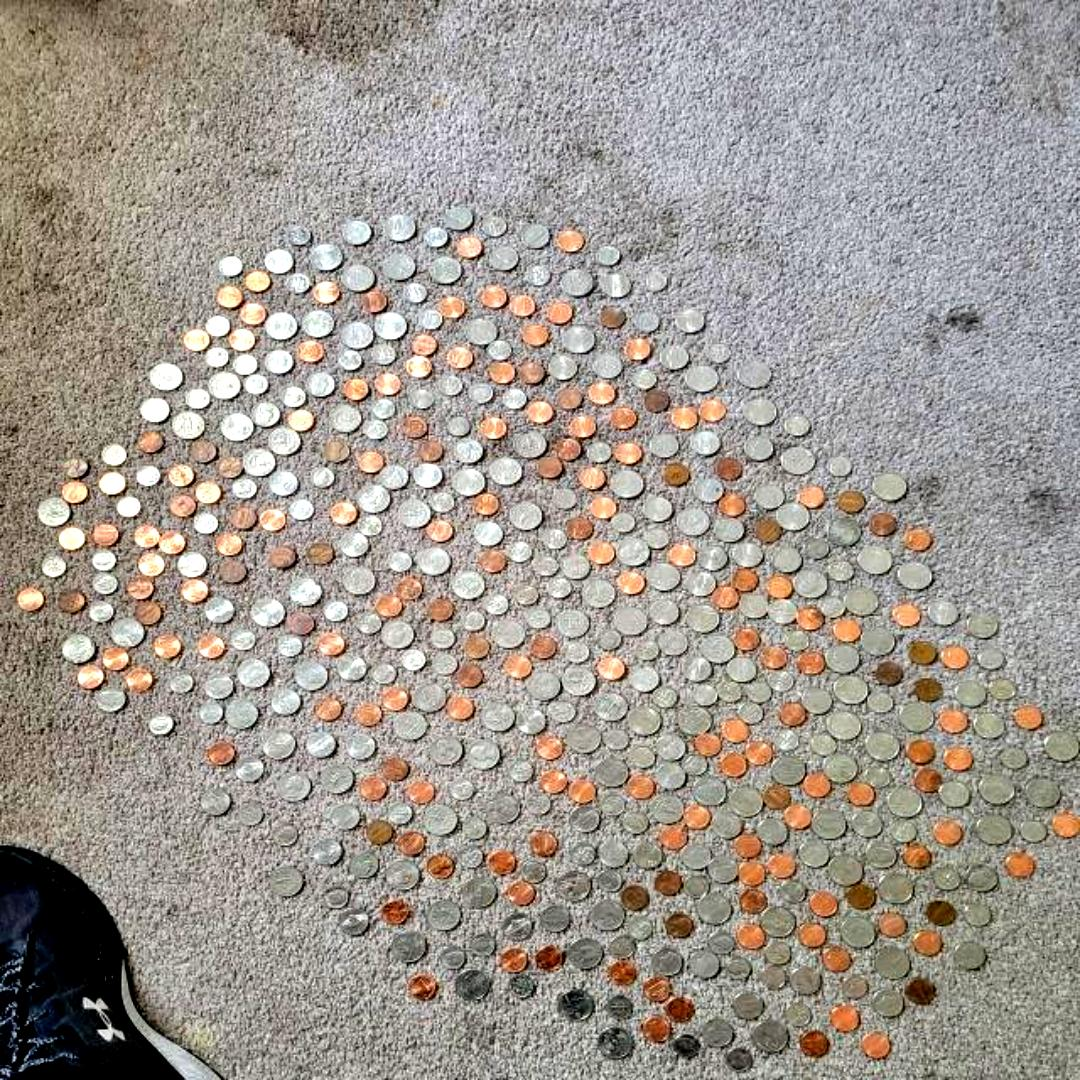Dime: (725, 1048, 752, 1072), (626, 916, 653, 940), (609, 936, 636, 960), (708, 930, 734, 954), (508, 974, 534, 998), (440, 946, 466, 970), (785, 1003, 812, 1026), (604, 996, 631, 1019), (456, 846, 484, 868), (672, 1034, 700, 1056), (725, 956, 750, 980), (596, 870, 622, 893), (1020, 820, 1046, 843), (842, 975, 868, 998), (764, 942, 791, 964), (470, 934, 497, 956), (989, 678, 1016, 700), (422, 226, 448, 248), (402, 282, 428, 304), (468, 382, 494, 404), (486, 340, 512, 362), (362, 418, 388, 440), (168, 672, 194, 694), (546, 576, 572, 598), (550, 700, 576, 722), (508, 760, 534, 782), (934, 868, 960, 890), (964, 904, 990, 926), (437, 375, 464, 396), (827, 560, 854, 581), (810, 734, 837, 755), (324, 886, 348, 909), (780, 879, 804, 902), (762, 966, 786, 989), (644, 528, 669, 550), (431, 628, 456, 650), (482, 217, 508, 238), (322, 601, 348, 622), (978, 648, 1004, 669), (738, 703, 764, 724), (524, 792, 550, 813), (866, 692, 893, 712), (681, 754, 708, 774), (568, 844, 595, 864), (206, 316, 230, 338), (612, 512, 636, 534), (542, 528, 566, 550), (502, 388, 526, 410), (430, 492, 454, 514), (232, 478, 256, 500), (102, 444, 126, 466), (116, 496, 140, 518), (866, 766, 890, 788), (388, 802, 412, 824), (462, 818, 486, 840), (684, 876, 708, 898), (198, 703, 223, 724), (622, 813, 647, 834), (336, 350, 362, 370), (232, 354, 258, 374), (524, 266, 550, 286), (632, 370, 658, 390), (586, 442, 612, 462), (370, 398, 396, 418), (184, 388, 210, 408), (92, 574, 118, 594), (230, 630, 256, 650), (276, 636, 302, 656), (400, 650, 426, 670), (432, 654, 458, 674), (564, 642, 590, 662), (596, 630, 622, 650), (1000, 748, 1026, 768), (692, 685, 718, 705), (652, 688, 678, 708), (238, 804, 264, 824), (272, 824, 298, 844), (520, 862, 546, 882), (890, 822, 916, 842), (418, 309, 442, 330), (642, 272, 666, 293), (136, 466, 160, 487), (388, 551, 412, 572), (460, 610, 484, 631), (634, 640, 658, 661), (820, 596, 844, 617), (804, 538, 828, 559), (774, 728, 798, 749), (768, 670, 792, 691), (630, 747, 654, 768), (718, 681, 742, 702), (604, 728, 628, 749), (600, 794, 624, 815), (289, 500, 314, 520), (88, 602, 113, 622), (526, 608, 551, 628), (746, 682, 771, 702), (204, 348, 228, 368), (244, 375, 268, 395), (218, 257, 242, 277), (286, 225, 310, 245), (372, 344, 396, 364), (596, 246, 620, 266), (634, 312, 658, 332), (706, 343, 730, 363), (784, 416, 808, 436), (828, 457, 852, 477), (552, 490, 576, 510), (358, 516, 382, 536), (310, 468, 334, 488), (194, 514, 218, 534), (282, 387, 306, 407), (42, 556, 66, 576), (92, 550, 116, 570), (372, 664, 396, 684), (358, 614, 382, 634), (484, 594, 508, 614), (508, 542, 532, 562), (534, 556, 558, 576), (514, 585, 538, 605), (784, 630, 808, 650), (450, 780, 474, 800), (408, 390, 434, 408), (286, 274, 309, 294), (150, 714, 173, 734), (448, 416, 470, 436)
Nickel: (538, 905, 570, 933), (872, 989, 904, 1017), (954, 942, 986, 970), (651, 948, 683, 976), (965, 864, 997, 892), (701, 1020, 733, 1048), (680, 843, 712, 870), (866, 843, 898, 870), (306, 730, 336, 758), (339, 907, 369, 935), (598, 840, 628, 868), (757, 818, 787, 846), (733, 992, 763, 1020), (689, 950, 719, 978), (659, 629, 689, 657), (233, 756, 265, 782), (798, 840, 830, 866), (938, 782, 970, 808), (966, 612, 998, 638), (560, 554, 592, 580), (200, 788, 230, 815), (501, 912, 531, 939), (656, 763, 686, 790), (852, 810, 882, 837), (791, 967, 821, 994), (926, 600, 958, 625), (755, 484, 785, 510), (453, 438, 483, 464), (269, 470, 299, 496), (204, 598, 234, 624), (177, 552, 207, 578), (686, 572, 716, 598), (802, 688, 832, 714), (727, 656, 757, 682), (516, 708, 546, 734), (270, 690, 300, 716), (96, 686, 126, 712), (330, 804, 360, 830), (312, 838, 342, 864), (632, 842, 662, 868), (708, 856, 738, 882), (570, 806, 600, 832), (711, 812, 741, 838), (349, 852, 379, 878), (974, 714, 1006, 738), (954, 682, 986, 706), (489, 246, 519, 271), (306, 372, 336, 397), (714, 518, 744, 543), (649, 600, 679, 625), (629, 666, 659, 691), (264, 250, 294, 274), (601, 274, 631, 298), (659, 346, 689, 370), (744, 436, 774, 460), (694, 478, 724, 502), (643, 498, 673, 522), (474, 522, 504, 546), (139, 398, 169, 422), (250, 402, 280, 426), (339, 532, 369, 556), (697, 546, 727, 570), (733, 544, 763, 568), (738, 594, 768, 618), (768, 600, 798, 624), (682, 656, 712, 680), (345, 734, 375, 758), (204, 674, 234, 698), (656, 736, 686, 760), (771, 548, 801, 572), (337, 656, 367, 680), (649, 435, 679, 458), (593, 355, 623, 378), (344, 220, 370, 246), (549, 356, 577, 380), (521, 224, 549, 248), (414, 464, 442, 488), (690, 432, 720, 454), (264, 351, 292, 374), (444, 208, 472, 230), (676, 310, 704, 332), (379, 466, 407, 488)
Penny: (830, 1004, 860, 1032), (100, 646, 132, 672), (56, 588, 86, 614), (933, 820, 961, 846), (913, 930, 941, 956), (906, 978, 934, 1004), (847, 884, 875, 910), (862, 1032, 890, 1058), (664, 996, 692, 1022), (488, 850, 516, 876), (16, 588, 46, 612), (926, 900, 953, 926), (800, 1032, 827, 1058), (642, 1016, 669, 1042), (499, 948, 526, 974), (943, 747, 973, 770), (942, 646, 968, 672), (738, 924, 764, 950), (398, 830, 424, 856), (578, 466, 606, 490), (869, 512, 897, 536), (739, 862, 767, 886), (621, 886, 649, 910), (446, 696, 474, 720), (382, 758, 410, 782), (126, 668, 154, 692), (526, 402, 556, 424), (714, 458, 744, 480), (909, 642, 936, 666), (915, 768, 942, 792), (766, 854, 793, 878), (808, 892, 835, 916), (642, 978, 669, 1002), (530, 832, 557, 856), (180, 580, 208, 603), (128, 578, 156, 601), (797, 608, 825, 631), (1015, 705, 1043, 728), (939, 710, 967, 733), (761, 785, 789, 808), (408, 975, 436, 998), (892, 604, 922, 625), (744, 742, 774, 763), (77, 667, 107, 688), (616, 442, 642, 466), (330, 502, 356, 526), (732, 568, 758, 592), (530, 636, 556, 660), (834, 620, 860, 644), (908, 740, 934, 764), (902, 844, 928, 868), (880, 912, 906, 936), (848, 782, 874, 806), (800, 924, 826, 948), (740, 890, 766, 914), (536, 736, 562, 760), (536, 946, 562, 970), (366, 820, 392, 844), (408, 780, 434, 804), (197, 636, 224, 659), (722, 719, 749, 742), (480, 418, 508, 440), (342, 378, 370, 400), (536, 456, 564, 478), (554, 438, 582, 460), (836, 490, 864, 512), (168, 496, 196, 518), (158, 532, 186, 554), (138, 554, 166, 576), (153, 636, 181, 658), (318, 634, 346, 656), (1005, 854, 1033, 876), (507, 882, 535, 904), (616, 574, 646, 594), (656, 870, 680, 895), (590, 497, 616, 520), (396, 578, 422, 601), (1052, 813, 1078, 836), (696, 733, 722, 756), (684, 806, 710, 829), (518, 362, 545, 384), (662, 464, 689, 486), (137, 432, 164, 454), (755, 520, 782, 542), (216, 287, 244, 308), (438, 298, 466, 319), (216, 458, 244, 479), (711, 587, 739, 608), (464, 639, 492, 660), (779, 705, 807, 726), (454, 667, 482, 688), (208, 742, 236, 763), (800, 486, 824, 510), (100, 472, 124, 496), (786, 806, 810, 830), (824, 948, 848, 972), (666, 914, 690, 938), (382, 900, 406, 924), (510, 296, 536, 318), (698, 400, 724, 422), (402, 416, 428, 438), (184, 330, 210, 352), (324, 440, 350, 462), (62, 456, 88, 478), (904, 528, 930, 550), (914, 678, 940, 700), (568, 780, 594, 802), (506, 656, 532, 678), (642, 392, 669, 413), (228, 330, 255, 351), (540, 770, 567, 791), (520, 326, 548, 346), (668, 546, 696, 566), (766, 578, 794, 598), (220, 562, 248, 582), (92, 526, 120, 546), (58, 528, 86, 548), (288, 614, 316, 634), (376, 596, 404, 616), (480, 552, 508, 572), (733, 630, 761, 650), (608, 962, 636, 982), (659, 828, 687, 848), (360, 778, 388, 798), (314, 700, 342, 720), (418, 439, 442, 462), (736, 834, 760, 857), (382, 688, 406, 711), (600, 306, 625, 328), (134, 526, 159, 548), (670, 407, 696, 428), (406, 356, 432, 377), (374, 374, 400, 395), (260, 509, 286, 530), (62, 484, 88, 505), (136, 602, 162, 623), (760, 646, 786, 667), (720, 755, 746, 776), (356, 705, 382, 726), (190, 443, 217, 463), (567, 520, 594, 540), (215, 535, 242, 555), (874, 664, 901, 684), (626, 778, 653, 798), (598, 658, 625, 678), (558, 230, 582, 252), (240, 304, 264, 326), (362, 292, 386, 314), (626, 338, 650, 360), (590, 384, 614, 406), (288, 410, 312, 432), (358, 452, 382, 474), (428, 520, 452, 542), (720, 494, 744, 516), (456, 237, 481, 258), (246, 272, 271, 293), (557, 389, 582, 410), (546, 304, 572, 324), (488, 362, 514, 382), (308, 544, 334, 564), (230, 508, 256, 528), (588, 544, 614, 564), (798, 652, 824, 672), (804, 776, 830, 796), (482, 287, 506, 308), (612, 407, 636, 428), (570, 418, 594, 439), (412, 335, 436, 356), (298, 342, 322, 363), (170, 466, 194, 487), (428, 601, 452, 622), (428, 857, 452, 878), (314, 282, 338, 302), (448, 348, 472, 368), (474, 495, 498, 515), (196, 482, 220, 502), (272, 548, 296, 568)
Quarter: (557, 989, 594, 1021), (454, 968, 490, 1000), (752, 1020, 788, 1052), (840, 917, 874, 950), (878, 872, 912, 904), (828, 854, 862, 886), (598, 1027, 632, 1059), (826, 711, 862, 741), (1024, 778, 1060, 808), (978, 775, 1014, 805), (886, 787, 922, 817), (822, 753, 858, 783), (390, 932, 426, 962), (590, 900, 626, 930), (760, 906, 796, 936), (865, 731, 900, 761), (975, 815, 1010, 845), (428, 899, 460, 931), (570, 937, 602, 969), (698, 893, 730, 925), (462, 877, 496, 907), (780, 446, 814, 476), (1044, 732, 1078, 762), (812, 809, 846, 839), (486, 793, 520, 823), (466, 739, 500, 769), (320, 764, 354, 794), (556, 870, 590, 900), (876, 949, 910, 979), (60, 635, 96, 663), (490, 620, 526, 648), (824, 645, 860, 673), (860, 627, 896, 655), (835, 675, 868, 705), (650, 794, 683, 824), (610, 470, 645, 498), (858, 546, 893, 574), (238, 658, 270, 688), (794, 569, 826, 599), (900, 702, 932, 732), (730, 787, 762, 817), (694, 776, 726, 806), (678, 706, 710, 736), (628, 706, 660, 736), (568, 723, 600, 753), (482, 701, 514, 731), (424, 805, 456, 835), (430, 736, 462, 766), (394, 711, 426, 741), (278, 772, 310, 802), (262, 730, 294, 760), (270, 867, 302, 897), (386, 860, 418, 890), (872, 473, 906, 501), (488, 458, 522, 486), (110, 619, 144, 647), (288, 578, 322, 606), (342, 566, 376, 594), (294, 662, 328, 690), (380, 620, 414, 648), (412, 683, 446, 711), (224, 700, 258, 728), (562, 326, 595, 354), (736, 361, 769, 389), (742, 398, 775, 426), (827, 518, 860, 546), (677, 508, 710, 536), (398, 500, 431, 528), (357, 485, 390, 513), (222, 413, 255, 441), (614, 607, 647, 635), (647, 563, 680, 591), (526, 672, 559, 700), (562, 668, 595, 696), (686, 605, 719, 633), (845, 588, 878, 616), (898, 562, 931, 590), (771, 756, 804, 784), (595, 693, 628, 721), (150, 362, 182, 390), (208, 372, 240, 400), (302, 310, 334, 338), (342, 264, 374, 292), (310, 243, 342, 271), (383, 214, 415, 242), (464, 318, 496, 346), (560, 269, 592, 297), (776, 503, 808, 531), (616, 538, 648, 566), (510, 502, 542, 530), (514, 431, 546, 459), (452, 469, 484, 497), (328, 404, 360, 432), (268, 427, 300, 455), (242, 448, 274, 476), (172, 411, 204, 439), (38, 498, 70, 526), (252, 599, 284, 627), (418, 547, 450, 575), (452, 571, 484, 599), (556, 610, 588, 638), (582, 580, 614, 608), (702, 636, 734, 664), (596, 759, 628, 787), (382, 254, 416, 280), (375, 313, 407, 340), (265, 313, 297, 340), (342, 324, 374, 351), (430, 258, 462, 284), (686, 366, 718, 392)
